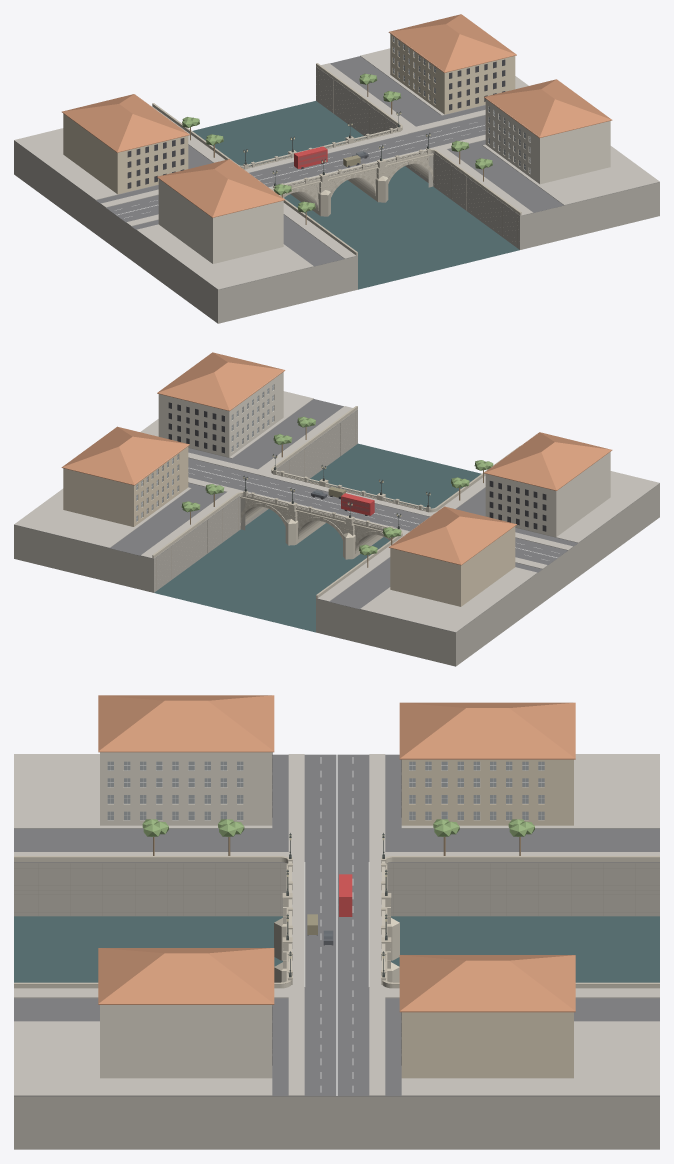
Rendered from clay-stone-arch-road-bridge-clay-v001.glb.
3 renders of one model, top to bottom at view 1: azimuth 30°, elevation 25°; view 2: azimuth 150°, elevation 25°; view 3: azimuth 270°, elevation 25°, orthographic. The views are drawn at different scales.
Parts seen in each view (by area): view 1: CLAY_QUAY, CLAY_WATER, CLAY_ROOF, CLAY_PAVING, CLAY_ASPHALT, CLAY_FACADE2, CLAY_WALL, CLAY_STONE, CLAY_ARCH, CLAY_DARK, CLAY_PLANTING, CLAY_GLASS (+3 smaller); view 2: CLAY_QUAY, CLAY_WATER, CLAY_ROOF, CLAY_PAVING, CLAY_ASPHALT, CLAY_FACADE2, CLAY_WALL, CLAY_STONE, CLAY_ARCH, CLAY_DARK, CLAY_PLANTING, CLAY_GLASS (+2 smaller); view 3: CLAY_QUAY, CLAY_PAVING, CLAY_ASPHALT, CLAY_ROOF, CLAY_WATER, CLAY_FACADE2, CLAY_WALL, CLAY_STONE, CLAY_TRIM, CLAY_GLASS, CLAY_JOINT, CLAY_ARCH (+2 smaller).
Part boxes in pixels (x1=…): CLAY_QUAY: x1=14, y1=67, x2=659, y2=323; CLAY_WATER: x1=192, y1=101, x2=519, y2=289; CLAY_ROOF: x1=62, y1=14, x2=612, y2=217; CLAY_PAVING: x1=14, y1=48, x2=659, y2=289; CLAY_ASPHALT: x1=16, y1=56, x2=658, y2=289; CLAY_FACADE2: x1=158, y1=99, x2=610, y2=263; CLAY_WALL: x1=63, y1=34, x2=515, y2=194; CLAY_STONE: x1=152, y1=64, x2=521, y2=255; CLAY_ARCH: x1=152, y1=63, x2=521, y2=252; CLAY_DARK: x1=127, y1=59, x2=505, y2=188; CLAY_PLANTING: x1=182, y1=73, x2=492, y2=212; CLAY_GLASS: x1=299, y1=37, x2=530, y2=173; CLAY_QUAY: x1=14, y1=410, x2=659, y2=666; CLAY_WATER: x1=154, y1=443, x2=481, y2=632; CLAY_ROOF: x1=61, y1=352, x2=612, y2=565; CLAY_PAVING: x1=14, y1=391, x2=659, y2=632; CLAY_ASPHALT: x1=14, y1=399, x2=659, y2=630; CLAY_FACADE2: x1=158, y1=372, x2=610, y2=536; CLAY_WALL: x1=63, y1=446, x2=515, y2=606; CLAY_STONE: x1=152, y1=407, x2=485, y2=598; CLAY_ARCH: x1=152, y1=406, x2=519, y2=595; CLAY_DARK: x1=168, y1=402, x2=546, y2=531; CLAY_PLANTING: x1=181, y1=416, x2=493, y2=555; CLAY_GLASS: x1=136, y1=384, x2=368, y2=521; CLAY_QUAY: x1=14, y1=863, x2=659, y2=1149; CLAY_PAVING: x1=14, y1=754, x2=659, y2=1095; CLAY_ASPHALT: x1=14, y1=754, x2=659, y2=1096; CLAY_ROOF: x1=98, y1=695, x2=575, y2=1012; CLAY_WATER: x1=14, y1=916, x2=659, y2=982; CLAY_FACADE2: x1=100, y1=752, x2=272, y2=1078; CLAY_WALL: x1=401, y1=759, x2=573, y2=1078; CLAY_STONE: x1=14, y1=858, x2=659, y2=988; CLAY_TRIM: x1=107, y1=761, x2=544, y2=820; CLAY_GLASS: x1=107, y1=761, x2=544, y2=938; CLAY_JOINT: x1=14, y1=863, x2=659, y2=948; CLAY_ARCH: x1=14, y1=856, x2=659, y2=987.
Size of the model in its own units: 150 by 31.15 by 120.
